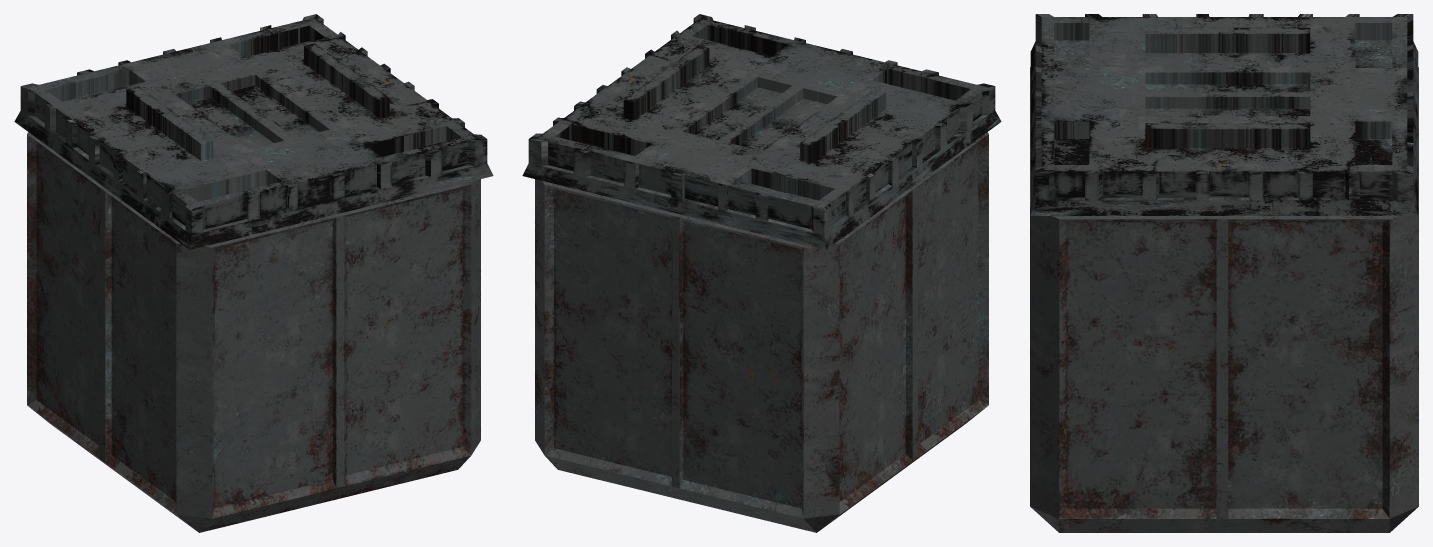
Rendered from metal box.fbx.
3 renders of one model, left to right at view 1: azimuth 30°, elevation 25°; view 2: azimuth 150°, elevation 25°; view 3: azimuth 270°, elevation 25°, orthographic. The views are drawn at different scales.
Parts seen in each view (by area): view 1: Box4, Box7; view 2: Box4, Box7; view 3: Box4, Box7.
Part boxes in pixels (x1=…): Box4: x1=27, y1=132, x2=480, y2=532; Box7: x1=14, y1=14, x2=493, y2=249; Box4: x1=535, y1=132, x2=988, y2=532; Box7: x1=522, y1=14, x2=1001, y2=249; Box4: x1=1030, y1=67, x2=1418, y2=532; Box7: x1=1030, y1=14, x2=1418, y2=215.
Size of the model in its own units: 400 by 440 by 400.
2 materials, 2 textured.
